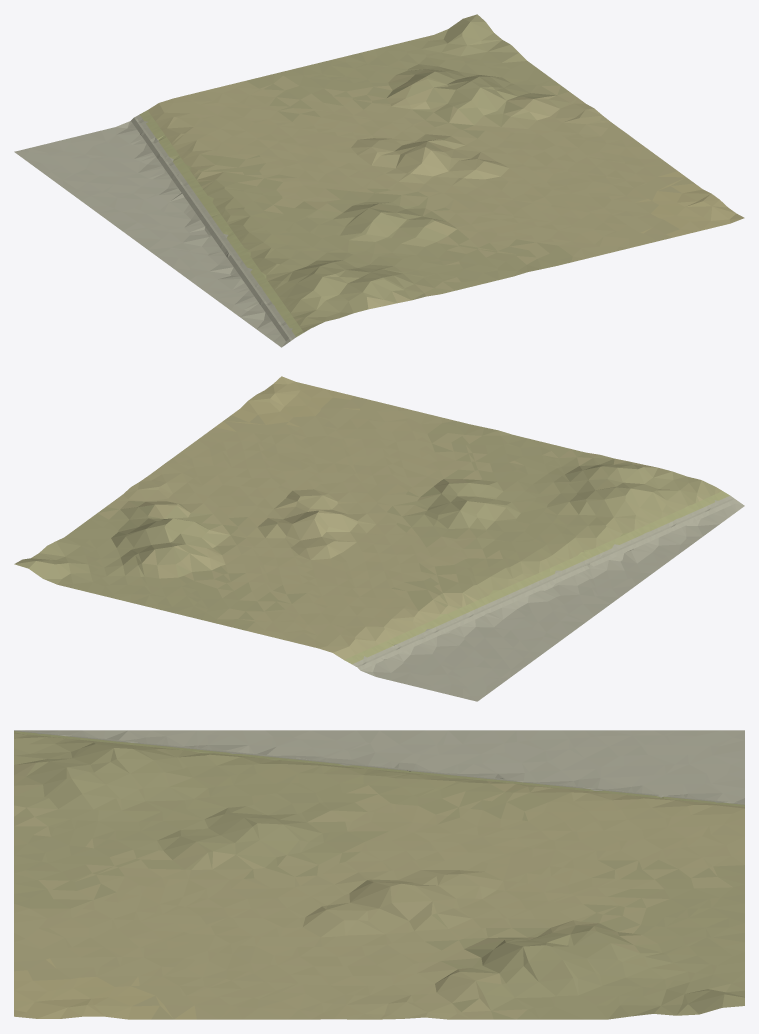
Rendered from Ground_-3_5.glb.
3 renders of one model, top to bottom at view 1: azimuth 30°, elevation 25°; view 2: azimuth 150°, elevation 25°; view 3: azimuth 270°, elevation 25°, orthographic. The views are drawn at different scales.
Parts seen in each view (by area): view 1: Ground_-3_5; view 2: Ground_-3_5; view 3: Ground_-3_5.
Part boxes in pixels (x1,y1,x2,y2): Ground_-3_5: [14, 14, 744, 347]; Ground_-3_5: [14, 376, 744, 701]; Ground_-3_5: [14, 730, 744, 1019].
Bounding box in the file's own units: 768 × 47.97 × 768.
